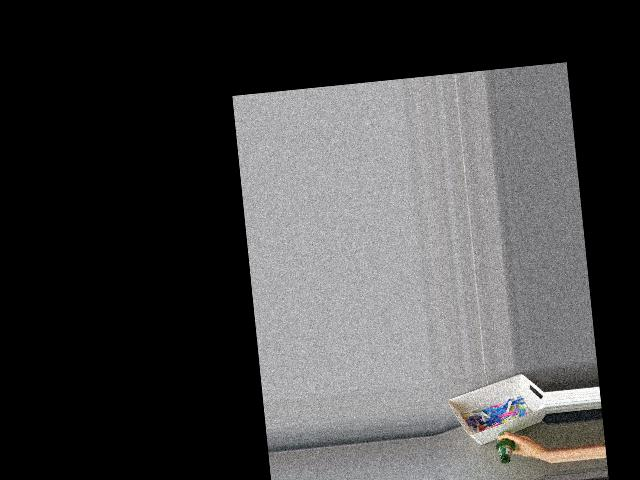beer: (494, 430, 517, 464)
